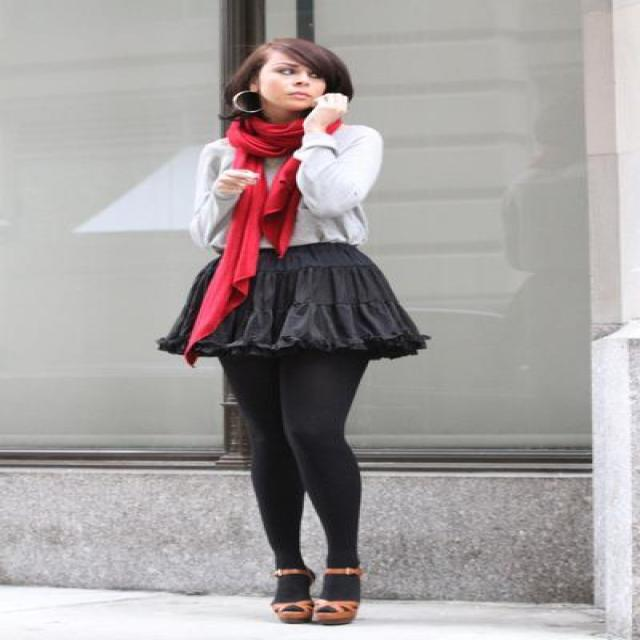shirt: (171, 125, 381, 263)
shoe: (245, 564, 384, 625)
skirt: (158, 242, 429, 378)
